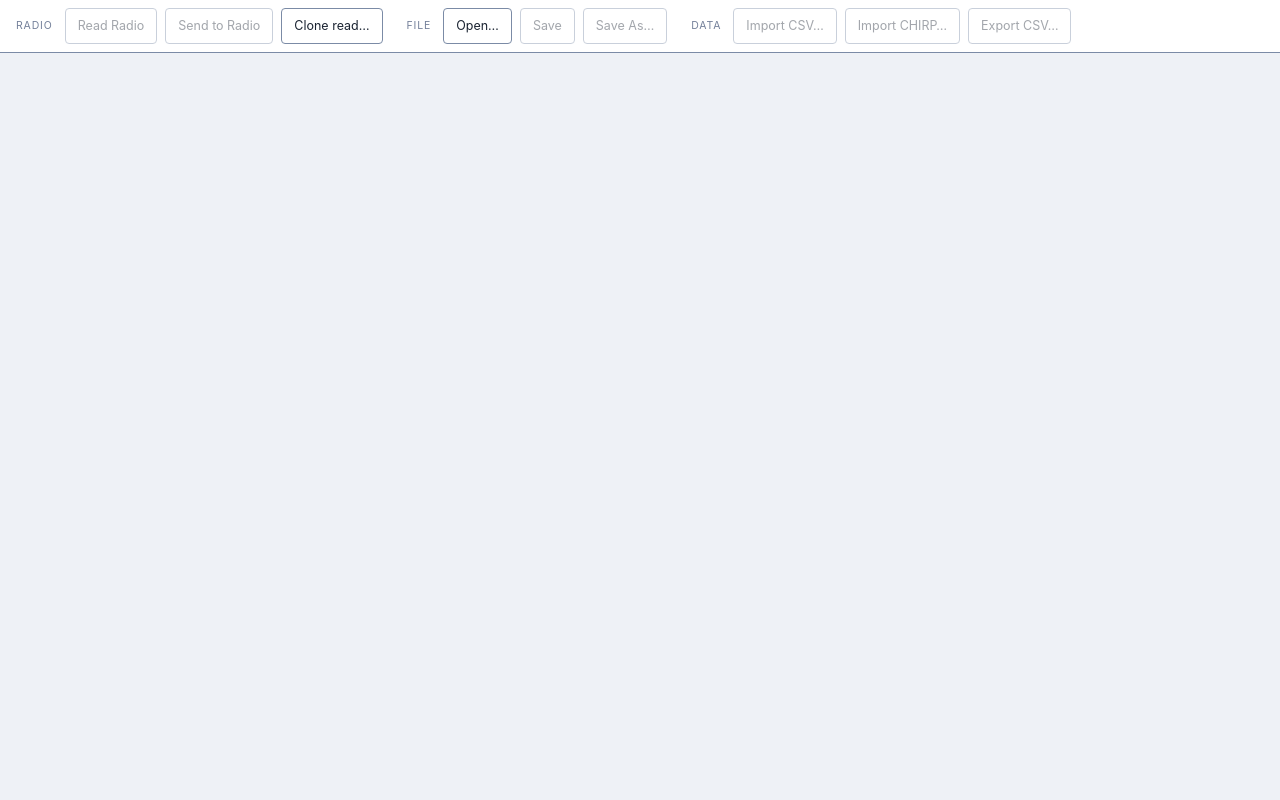
Test: dirty guard — Open / Read Radio › Open while dirty shows the guard; Cancel leaves loadFile uncalled
Click the button "Open…" at [478, 26], box 443,8 -> 512,44
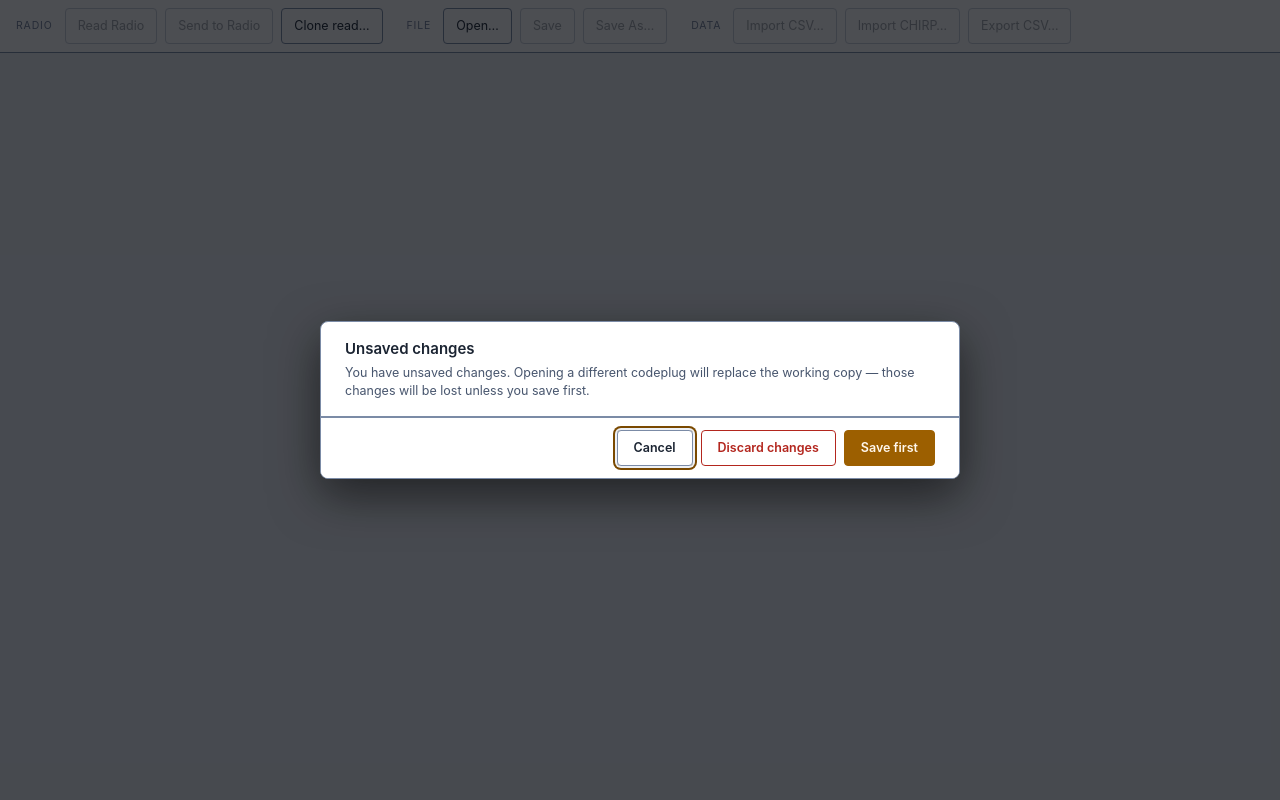
Result: the heading "Unsaved changes" is shown at 345,339 -> 475,358
Click the button "Cancel" at [655, 448], box 617,430 -> 693,466
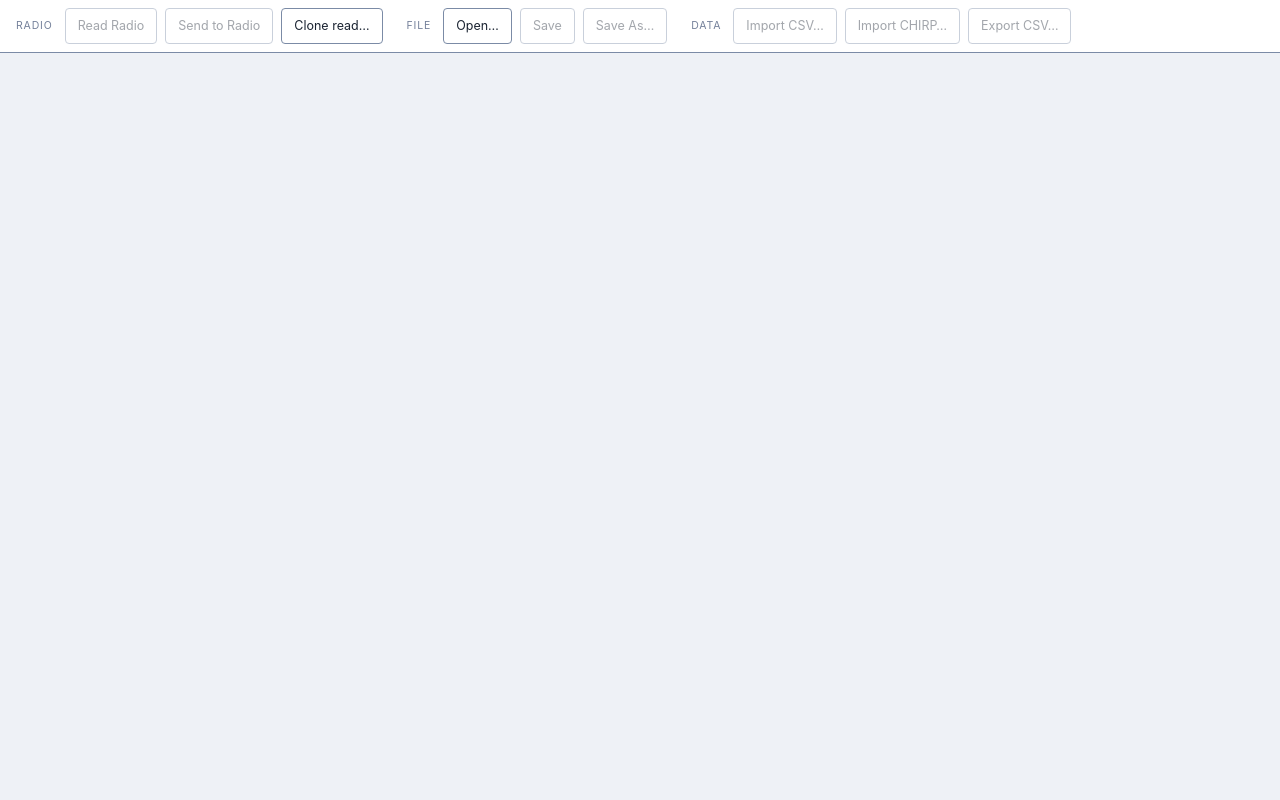
Result: the heading "Unsaved changes" is gone
